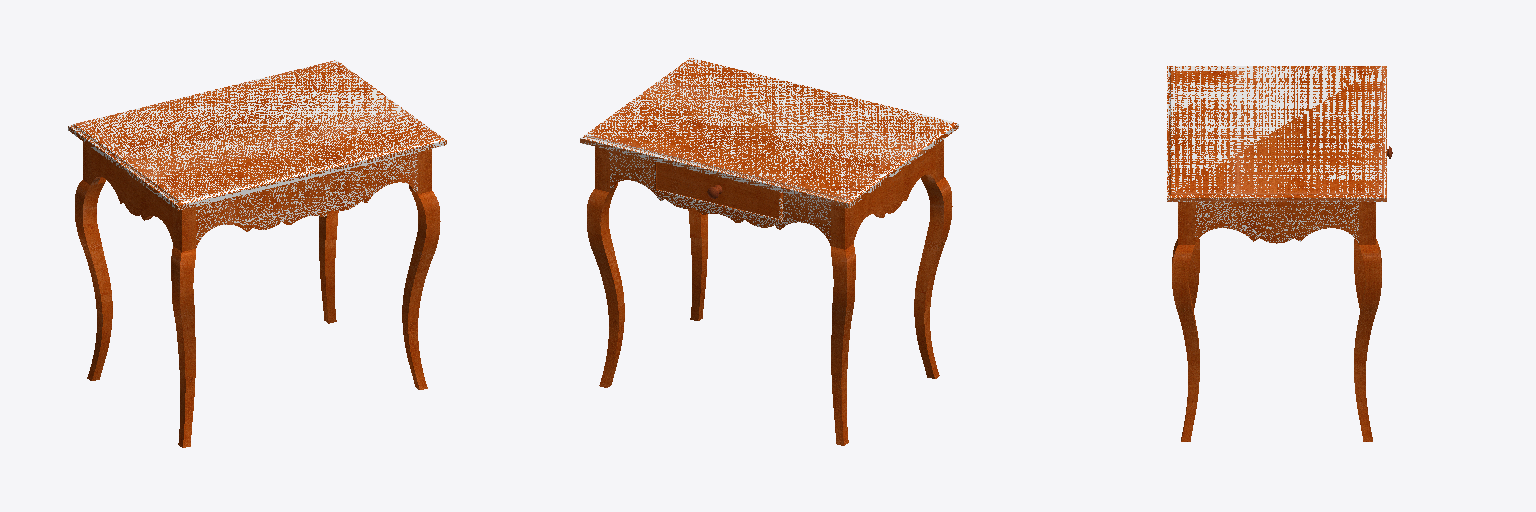
3 views of the same model, side by side, from view 1: azimuth 30°, elevation 25°; view 2: azimuth 150°, elevation 25°; view 3: azimuth 270°, elevation 25° (orthographic).
Visible parts, largest first — view 1: mesh31_mesh31-geometry, mesh5_mesh5-geometry, mesh19_mesh19-geometry, mesh3_mesh3-geometry, mesh1_mesh1-geometry; view 2: mesh31_mesh31-geometry, mesh3_mesh3-geometry, mesh5_mesh5-geometry, mesh18_mesh18-geometry, mesh10_mesh10-geometry, mesh1_mesh1-geometry; view 3: mesh31_mesh31-geometry, mesh6_mesh6-geometry, mesh3_mesh3-geometry, mesh5_mesh5-geometry.
Part boxes in pixels (x1,y1,x2,y2): mesh31_mesh31-geometry: (68, 60, 446, 210); mesh5_mesh5-geometry: (75, 142, 440, 389); mesh19_mesh19-geometry: (196, 152, 417, 247); mesh3_mesh3-geometry: (171, 206, 338, 447); mesh1_mesh1-geometry: (91, 148, 172, 241); mesh31_mesh31-geometry: (580, 58, 958, 207); mesh3_mesh3-geometry: (587, 140, 952, 387); mesh5_mesh5-geometry: (688, 204, 855, 445); mesh18_mesh18-geometry: (609, 150, 830, 245); mesh10_mesh10-geometry: (655, 161, 782, 221); mesh1_mesh1-geometry: (854, 145, 935, 239); mesh31_mesh31-geometry: (1167, 66, 1386, 201); mesh6_mesh6-geometry: (1195, 202, 1358, 243); mesh3_mesh3-geometry: (1188, 202, 1381, 441); mesh5_mesh5-geometry: (1172, 202, 1365, 441).
Size of the model in its own units: 0.6548 by 0.5879 by 0.475.
8 materials, 5 textured.